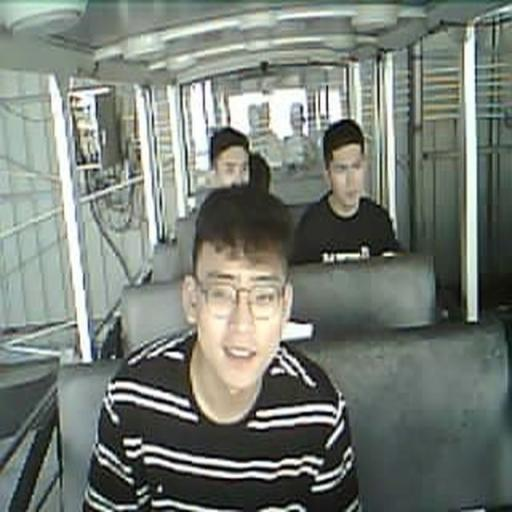persona: (82, 183, 362, 511), (292, 118, 402, 264), (194, 126, 271, 208)
